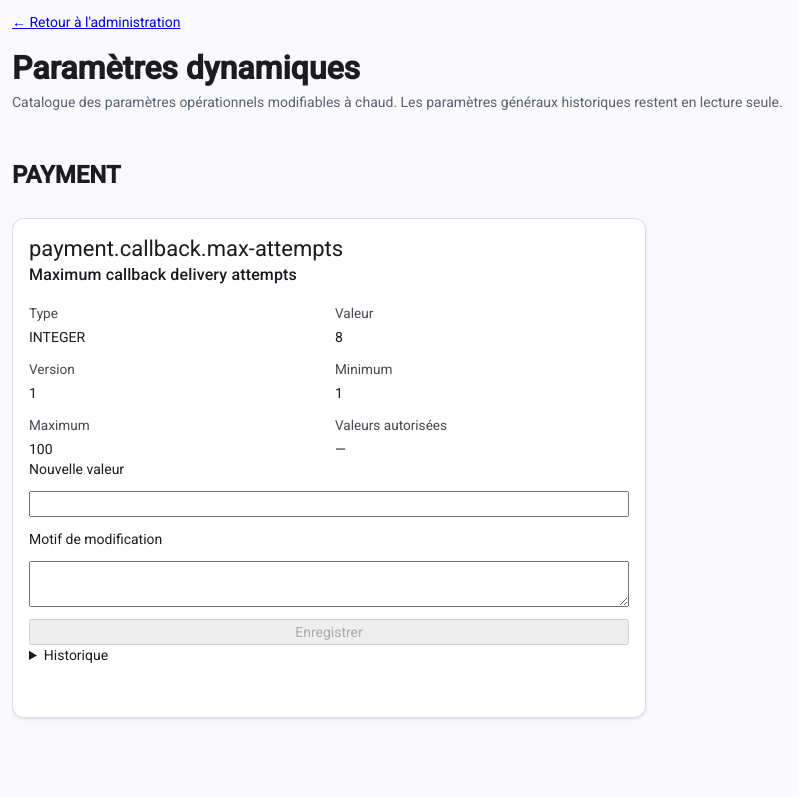
Scenario: DynamicSettingsPageComponent › surfaces a forbidden backend response instead of swallowing it
Type "10" into the number field labelled "Nouvelle valeur" at (329, 504), box [29,491,629,517]
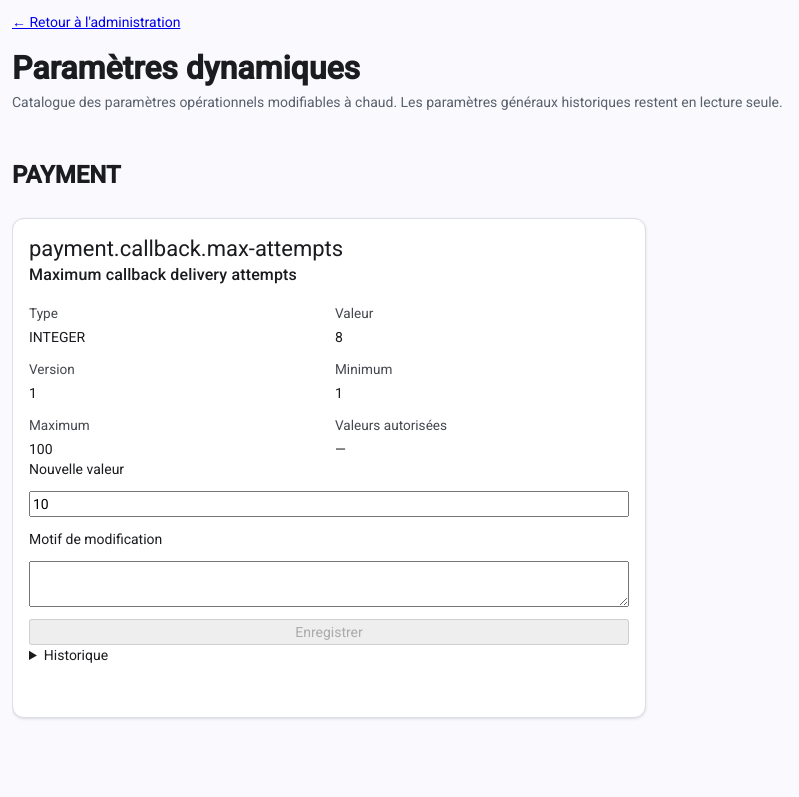
Type "Operational tuning" into the text box labelled "Motif de modification" at (329, 584), box [29,561,629,607]
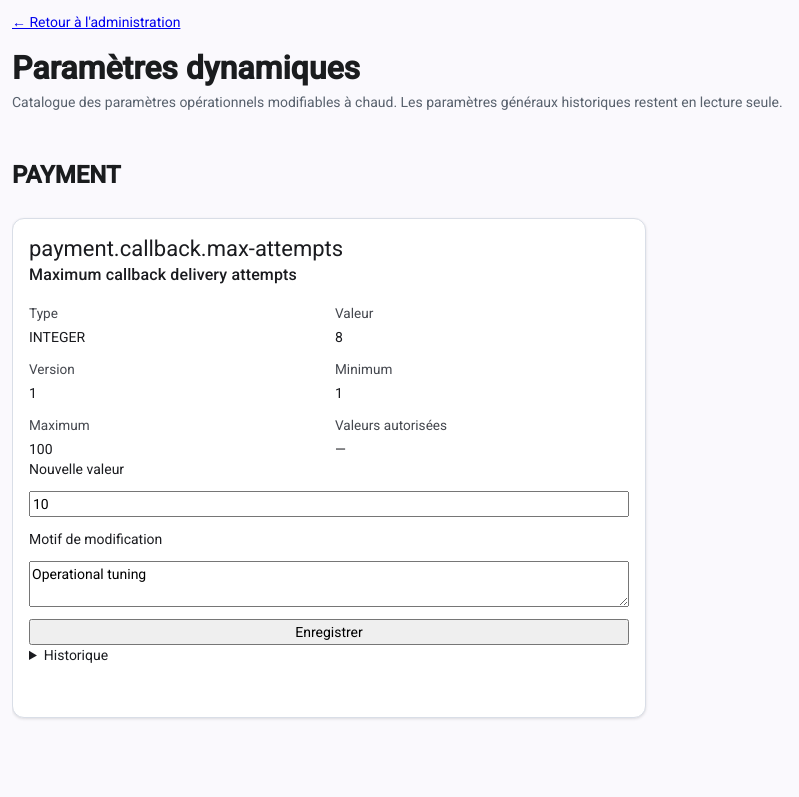
Submit the form, box [29,459,629,645]
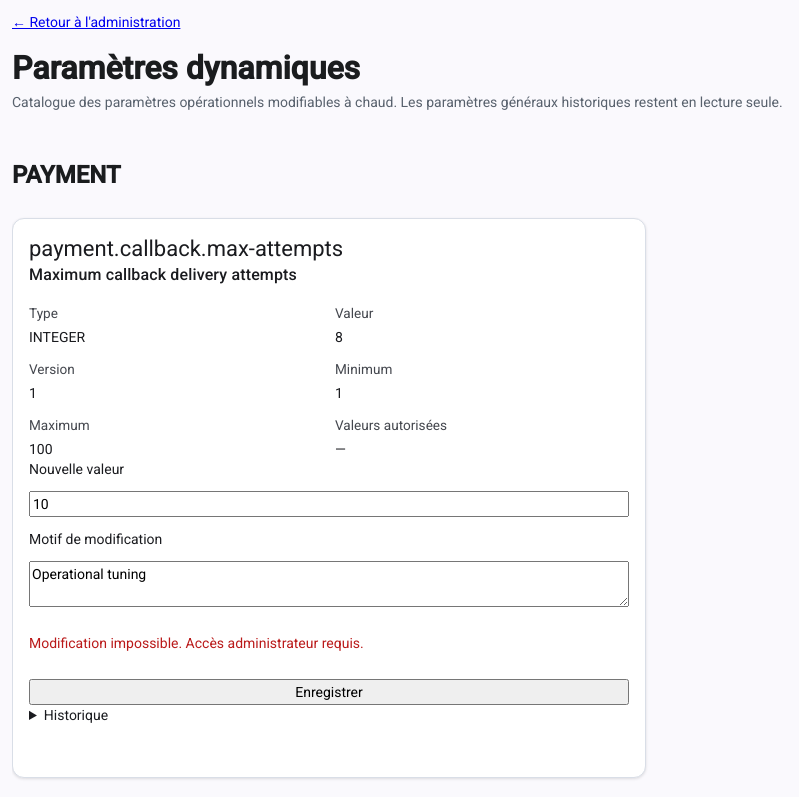
Result: the text "Accès administrateur requis" is shown at [29,635,364,651]
